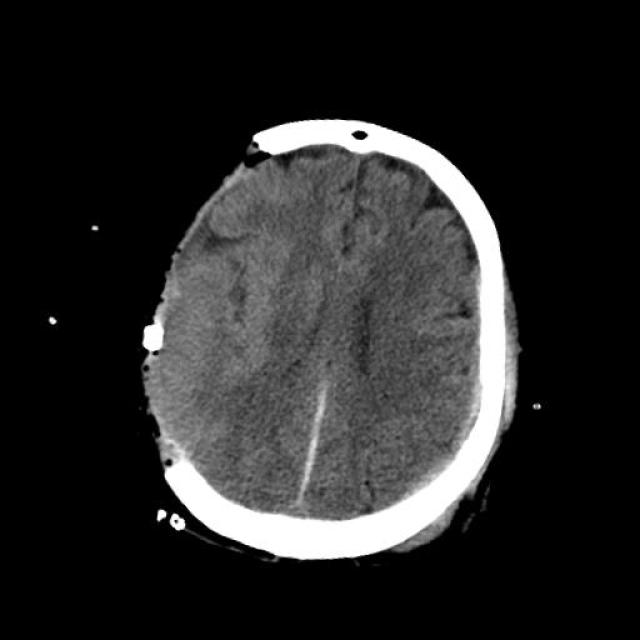Subdural: (282, 374, 354, 534)
